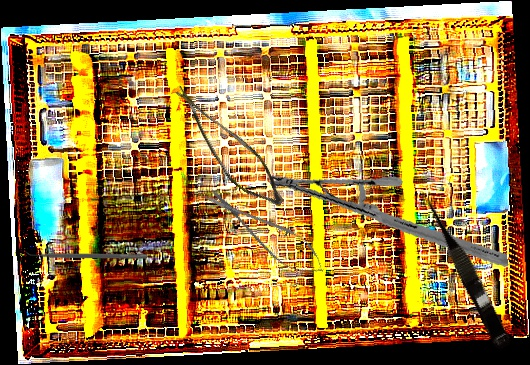Micro Scissor: (150, 84, 302, 214), (419, 191, 516, 352), (197, 178, 333, 286)
Needle Holder: (268, 134, 509, 306)
Spatula Surgical: (24, 249, 147, 259)
